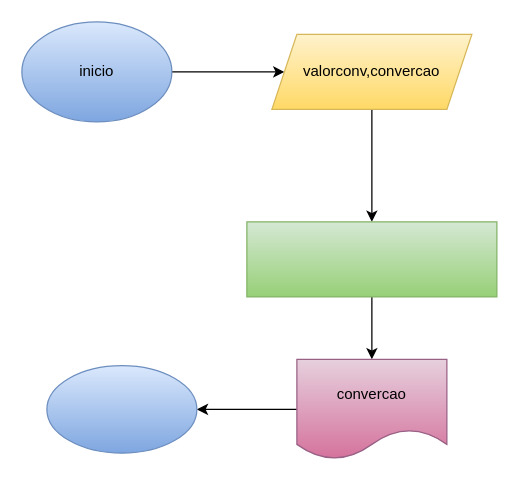
Some shapes in this 519 by 481 pixel diagram are drawn without their labels. The box of each missing label's shape, as (x1, y1, x2, y2) in pixels:
convercao<-valorconv/4.93: (246, 221, 497, 297)
saida: (46, 364, 197, 453)
